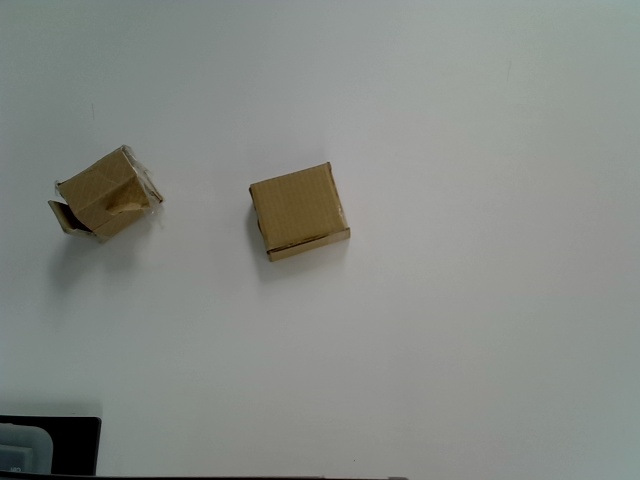defect: (49, 145, 171, 244)
normal: (250, 160, 354, 262)
